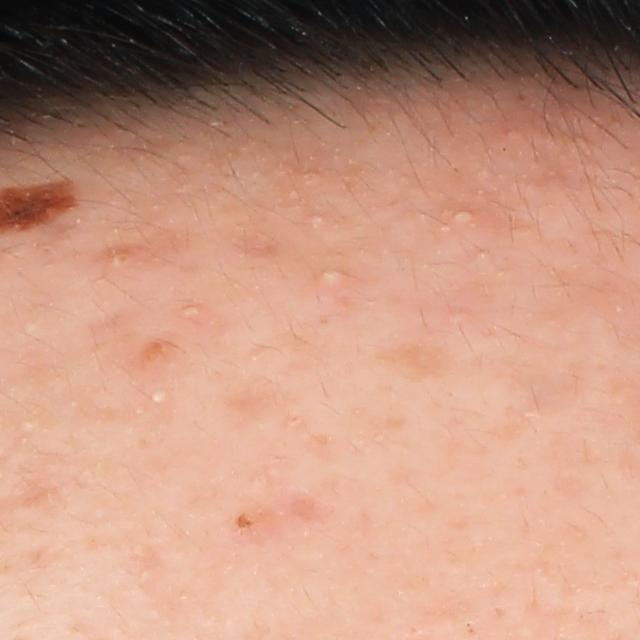pustule: (308, 264, 348, 293), (446, 206, 474, 229)
